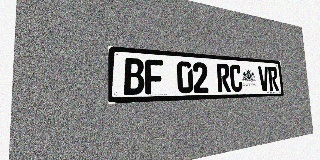0: (176, 61, 193, 93)
2: (192, 62, 208, 93)
B: (123, 58, 144, 95)
C: (229, 64, 243, 92)
F: (144, 59, 164, 94)
R: (216, 63, 231, 92), (268, 67, 279, 91)
V: (258, 66, 269, 91)
